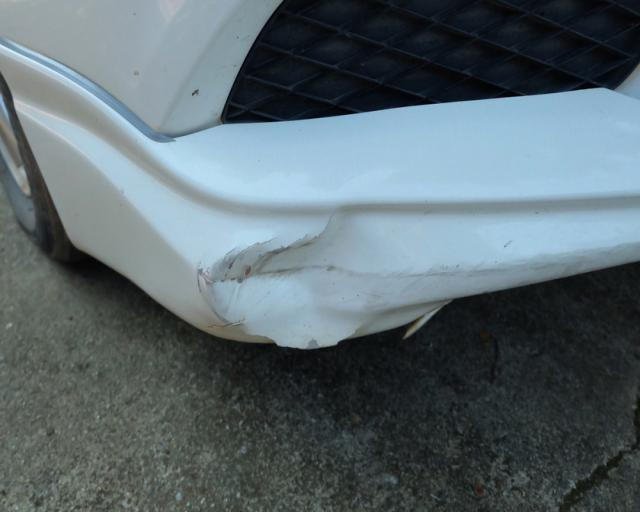dent: (207, 212, 385, 347)
